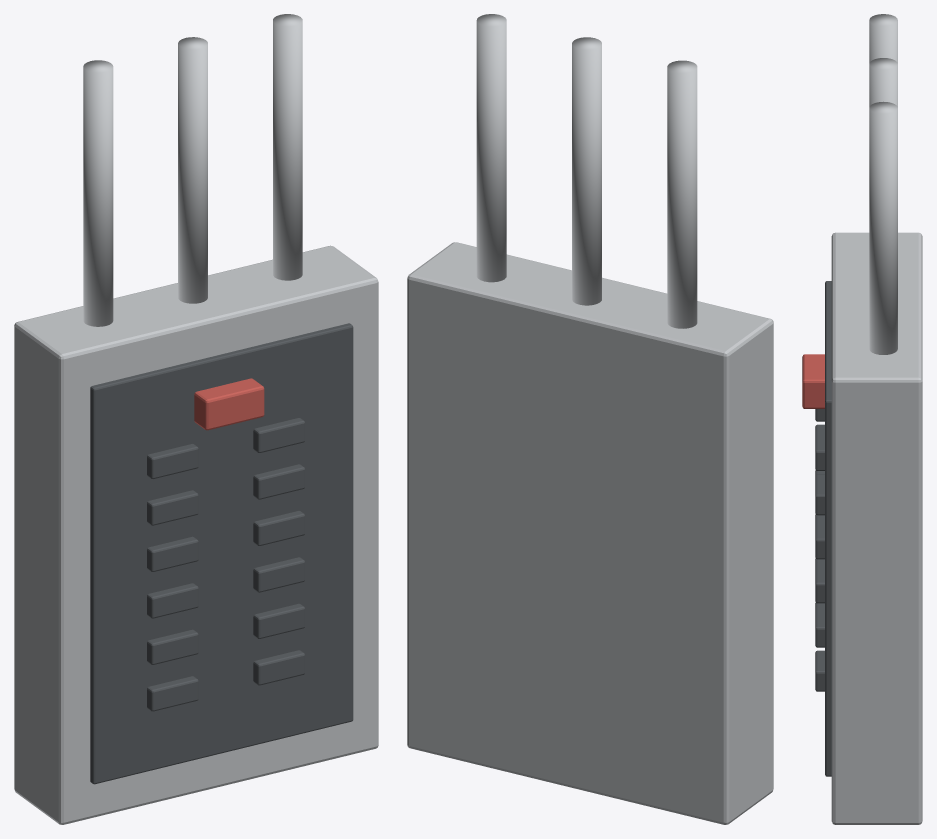
The model's file is electrical_panel.glb.
3 renders of one model, left to right at view 1: azimuth 30°, elevation 25°; view 2: azimuth 150°, elevation 25°; view 3: azimuth 270°, elevation 25°, orthographic. The views are drawn at different scales.
Visible parts, largest first — view 1: InnerRecess, PanelBox, Conduit_-0.16, Conduit_0.0, Conduit_0.16, MainThrow, Breaker_0_-1, Breaker_2_1, Breaker_4_-1, Breaker_0_1, Breaker_2_-1, Breaker_4_1 (+6 smaller); view 2: PanelBox, Conduit_-0.16, Conduit_0.16, Conduit_0.0; view 3: PanelBox, Conduit_0.16, InnerRecess, Conduit_-0.16, Conduit_0.0, MainThrow, Breaker_1_1, Breaker_2_1, Breaker_0_1, Breaker_3_1, Breaker_4_1, Breaker_5_1.
Part boxes in pixels (left/top/right/bottom): InnerRecess: left=90, top=323, right=353, bottom=784; PanelBox: left=14, top=245, right=378, bottom=824; Conduit_-0.16: left=83, top=60, right=113, bottom=326; Conduit_0.0: left=178, top=37, right=207, bottom=303; Conduit_0.16: left=273, top=14, right=302, bottom=280; MainThrow: left=194, top=378, right=264, bottom=430; Breaker_0_-1: left=147, top=676, right=198, bottom=711; Breaker_2_1: left=253, top=557, right=304, bottom=592; Breaker_4_-1: left=147, top=490, right=198, bottom=525; Breaker_0_1: left=253, top=650, right=304, bottom=685; Breaker_2_-1: left=147, top=583, right=198, bottom=618; Breaker_4_1: left=253, top=464, right=304, bottom=499; PanelBox: left=407, top=242, right=773, bottom=824; Conduit_-0.16: left=667, top=60, right=697, bottom=328; Conduit_0.16: left=476, top=14, right=506, bottom=282; Conduit_0.0: left=572, top=37, right=601, bottom=305; PanelBox: left=831, top=232, right=922, bottom=824; Conduit_0.16: left=869, top=101, right=897, bottom=354; InnerRecess: left=825, top=281, right=831, bottom=776; Conduit_-0.16: left=869, top=14, right=897, bottom=63; Conduit_0.0: left=869, top=58, right=897, bottom=107; MainThrow: left=802, top=354, right=824, bottom=408; Breaker_1_1: left=815, top=606, right=824, bottom=647; Breaker_2_1: left=815, top=562, right=824, bottom=603; Breaker_0_1: left=815, top=650, right=824, bottom=691; Breaker_3_1: left=815, top=518, right=824, bottom=559; Breaker_4_1: left=815, top=474, right=824, bottom=515; Breaker_5_1: left=815, top=430, right=824, bottom=470.
Bounding box in the file's own units: 0.54 × 1.17 × 0.185.
